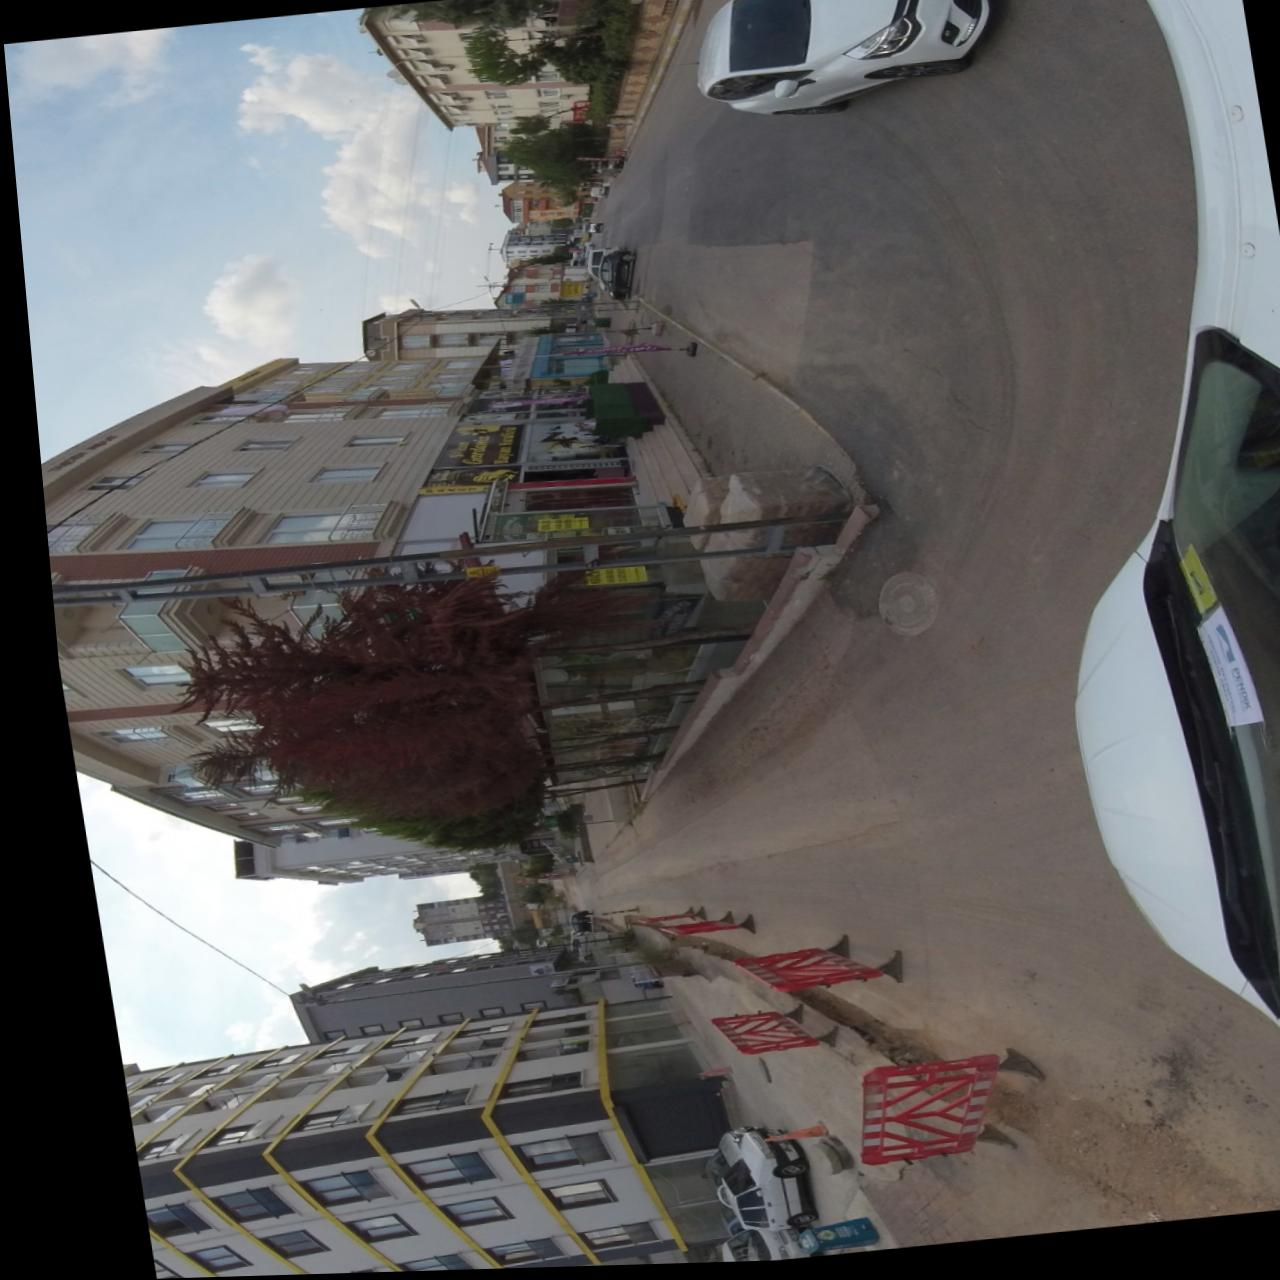Utility Pole Information Plate: (457, 567, 489, 580)
